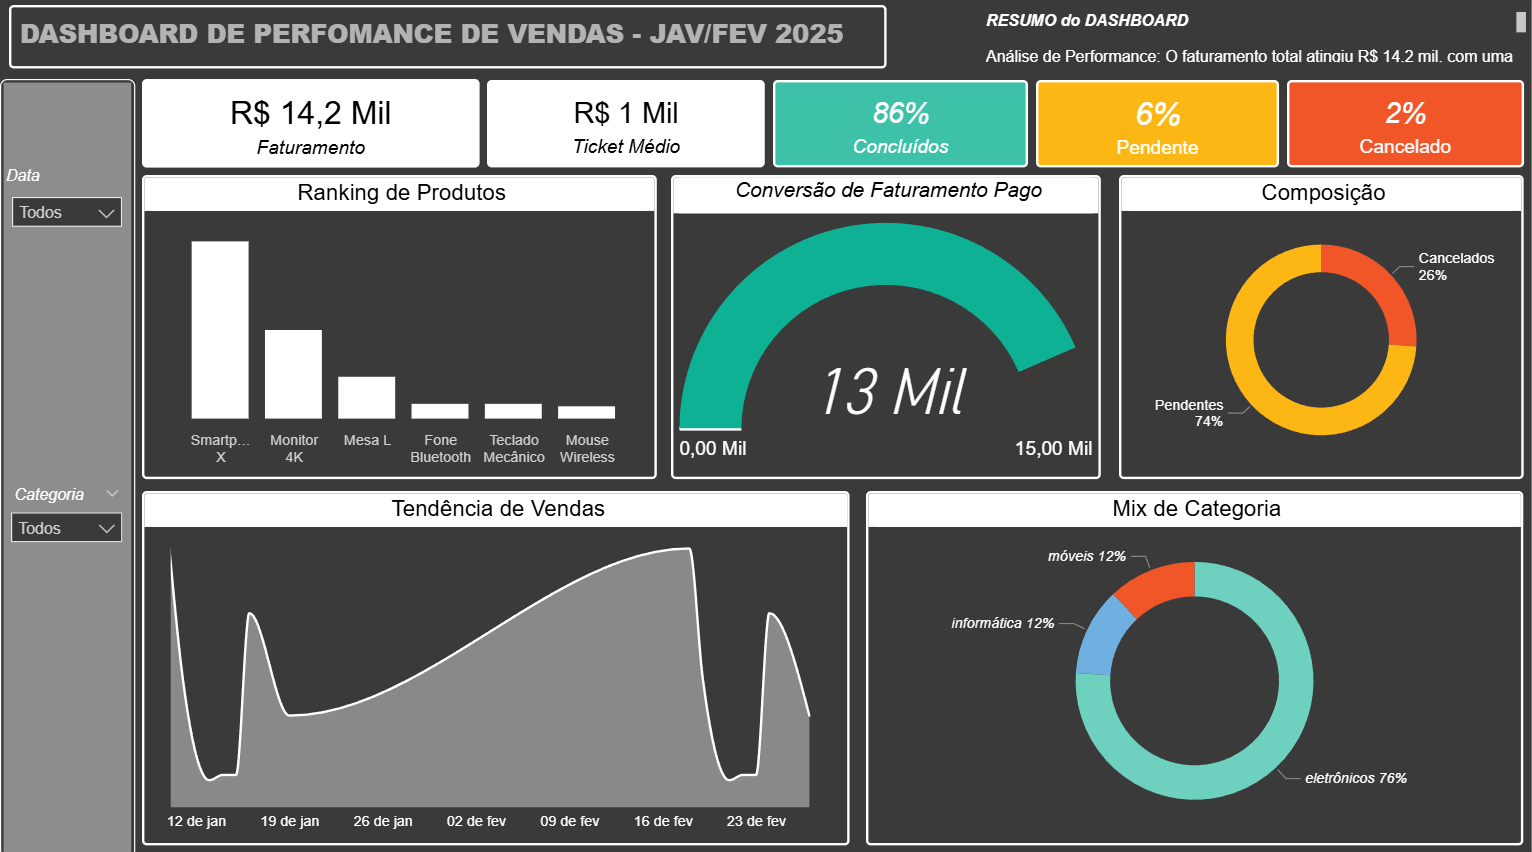

What the dashboard file says about the page in this screenshot:
{"tool":"powerbi","page":{"name":"Perfomance de Vendas","canvas":[1280,720],"ordinal":0},"visuals":[{"type":"gauge","title":"Conversão de Faturamento Pago","fields":{"Y":["SQLite_VENDAS_CORRIGIDAS.Faturamento_Real_Pago"]},"box":[561.3,150.7,359.1,254.5],"z":0},{"type":"card","fields":{"Values":["SQLite_VENDAS_CORRIGIDAS.% PagamentosConcluídos"]},"box":[646.4,70.9,212.8,72.7],"z":1000},{"type":"stackedAreaChart","title":"Tendência de Vendas","fields":{"Y":["Sum(SQLite_VENDAS_CORRIGIDAS.Faturamento)"],"Category":["SQLite_VENDAS_CORRIGIDAS.Data_Venda"]},"box":[119.7,414.1,591.4,296.2],"z":2000},{"type":"columnChart","title":"Ranking de Produtos","fields":{"Category":["SQLite_VENDAS_CORRIGIDAS.produto"],"Y":["Sum(SQLite_VENDAS_CORRIGIDAS.Faturamento)"]},"box":[119.7,150.7,430,254.5],"z":3000},{"type":"donutChart","title":"Composição","fields":{"Y":["SQLite_VENDAS_CORRIGIDAS.%_Cancelado_Final","SQLite_VENDAS_CORRIGIDAS.%_Pendente_Final"]},"box":[935.5,150.7,337.8,254.5],"z":4000},{"type":"card","fields":{"Values":["Sum(SQLite_VENDAS_CORRIGIDAS.Faturamento)"]},"box":[119.7,70,282,73.6],"z":5000},{"type":"shape","box":[0.9,70,112.6,650],"z":6000},{"type":"card","fields":{"Values":["SQLite_VENDAS_CORRIGIDAS.%_Cancelado_Final"]},"box":[1075.6,70.9,197.7,72.7],"z":7000},{"type":"card","fields":{"Values":["SQLite_VENDAS_CORRIGIDAS.%_Pendente_Final"]},"box":[866.3,70.9,203.1,72.7],"z":8000},{"type":"card","fields":{"Values":["SQLite_VENDAS_CORRIGIDAS.TicketMédio"]},"box":[407.9,70.9,232.3,72.7],"z":9000},{"type":"textbox","box":[8.8,8.8,733.4,52.5],"z":10000},{"type":"slicer","fields":{"Values":["SQLite_VENDAS_CORRIGIDAS.categoria"]},"box":[0,405.2,112.6,58.5],"z":11000},{"type":"donutChart","title":"Mix de Categoria","fields":{"Category":["SQLite_VENDAS_CORRIGIDAS.categoria"],"Y":["Sum(SQLite_VENDAS_CORRIGIDAS.Faturamento)"]},"box":[724.4,414.1,548.9,296.2],"z":12000},{"type":"textbox","box":[819.3,8.9,461.1,52.3],"z":13000},{"type":"slicer","title":"Data","fields":{"Values":["SQLite_VENDAS_CORRIGIDAS.Data_Venda"]},"box":[0.9,143.6,111.7,73.6],"z":14000}]}

Visuals, with their boxes in screenshot pixels (x1, y1, x2, y2):
"Conversão de Faturamento Pago" gauge: bbox(677, 171, 1112, 479)
card - SQLite_VENDAS_CORRIGIDAS.% PagamentosConcluídos: bbox(780, 74, 1038, 162)
"Tendência de Vendas" stackedAreaChart: bbox(141, 490, 858, 849)
"Ranking de Produtos" columnChart: bbox(141, 171, 662, 479)
"Composição" donutChart: bbox(1130, 171, 1531, 479)
card - Sum(SQLite_VENDAS_CORRIGIDAS.Faturamento): bbox(141, 73, 483, 162)
shape: bbox(0, 73, 134, 851)
card - SQLite_VENDAS_CORRIGIDAS.%_Cancelado_Final: bbox(1300, 74, 1531, 162)
card - SQLite_VENDAS_CORRIGIDAS.%_Pendente_Final: bbox(1046, 74, 1293, 162)
card - SQLite_VENDAS_CORRIGIDAS.TicketMédio: bbox(491, 74, 772, 162)
textbox: bbox(7, 0, 896, 62)
slicer - SQLite_VENDAS_CORRIGIDAS.categoria: bbox(0, 479, 133, 550)
"Mix de Categoria" donutChart: bbox(874, 490, 1531, 849)
textbox: bbox(989, 0, 1531, 62)
"Data" slicer: bbox(0, 162, 133, 251)
